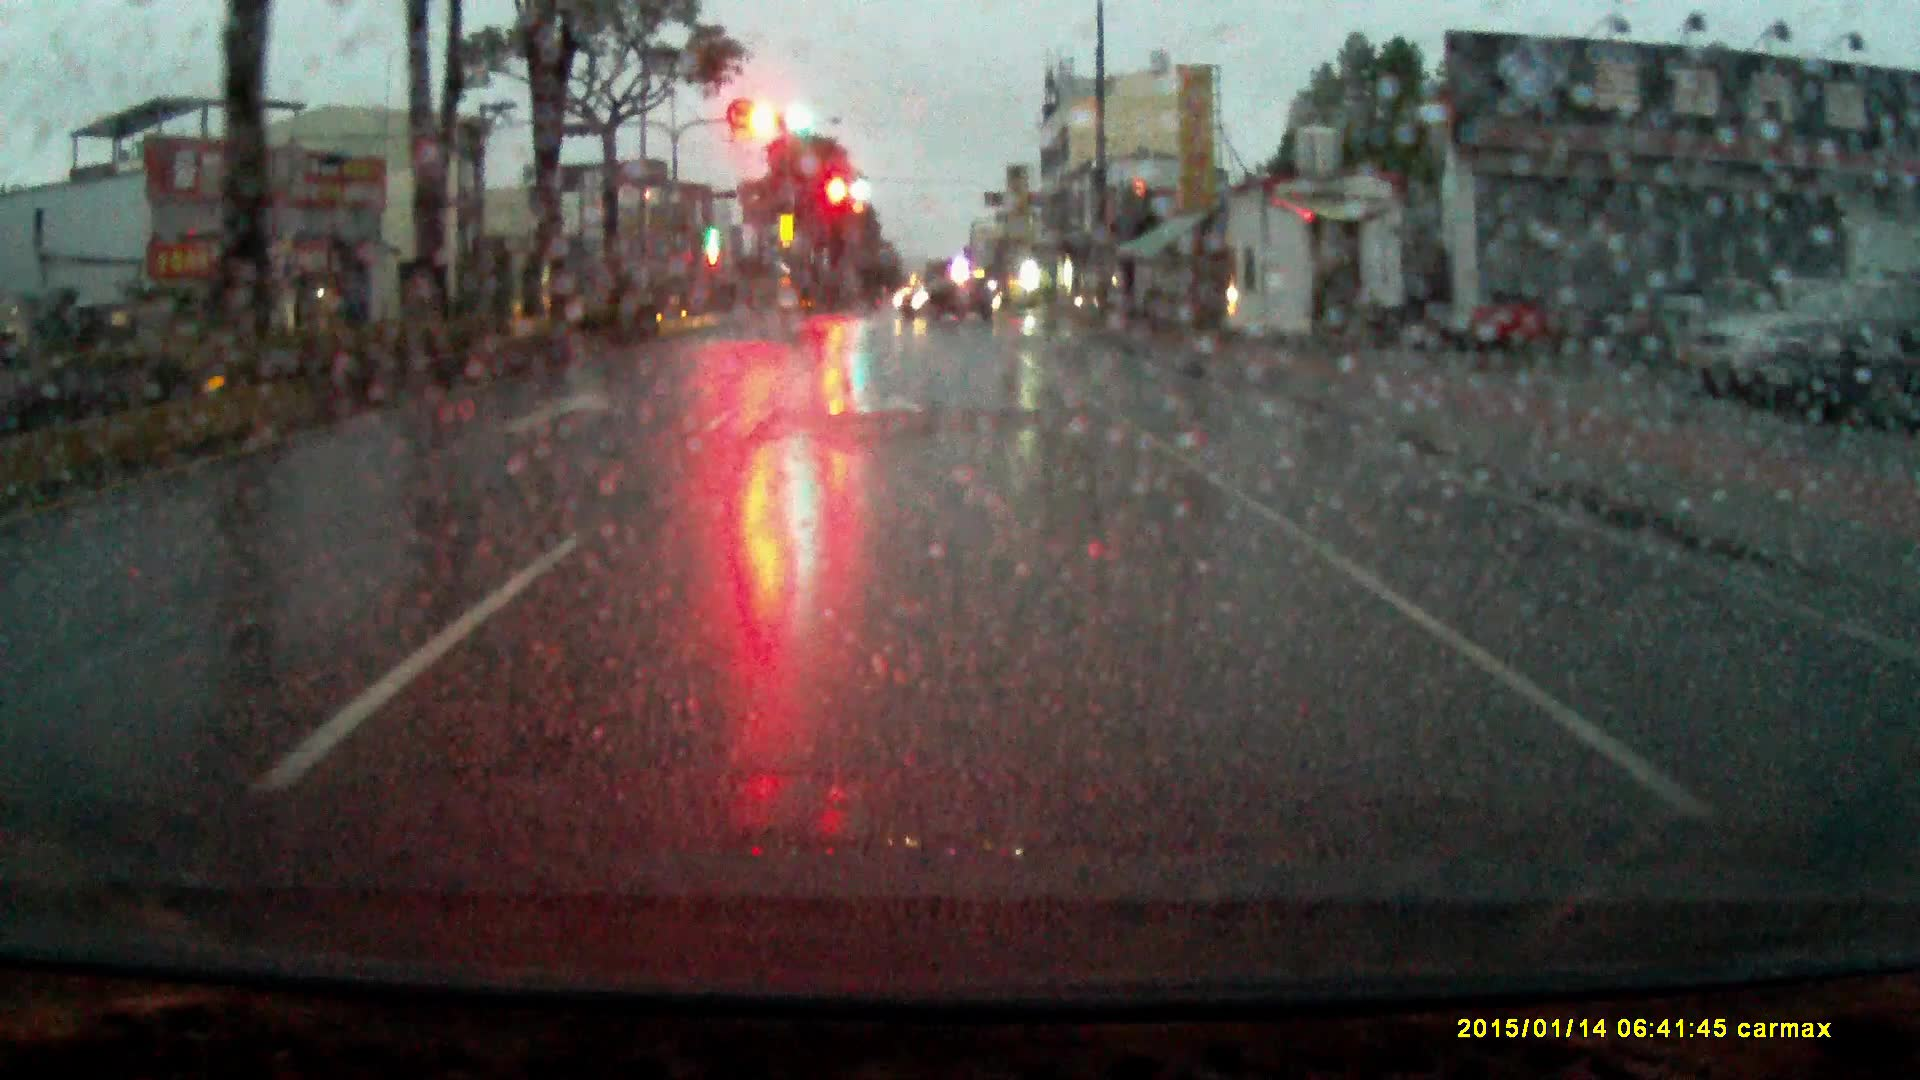vehicle: (1676, 277, 1920, 406), (1783, 295, 1920, 422), (894, 276, 992, 330)
